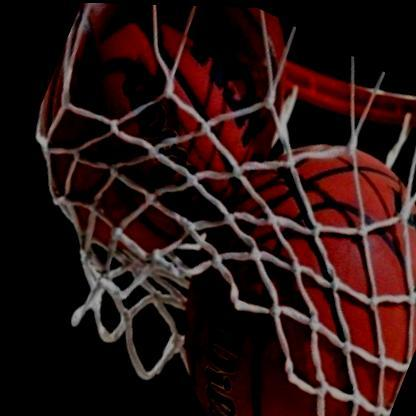basketball: (106, 90, 416, 416), (0, 0, 336, 300)
